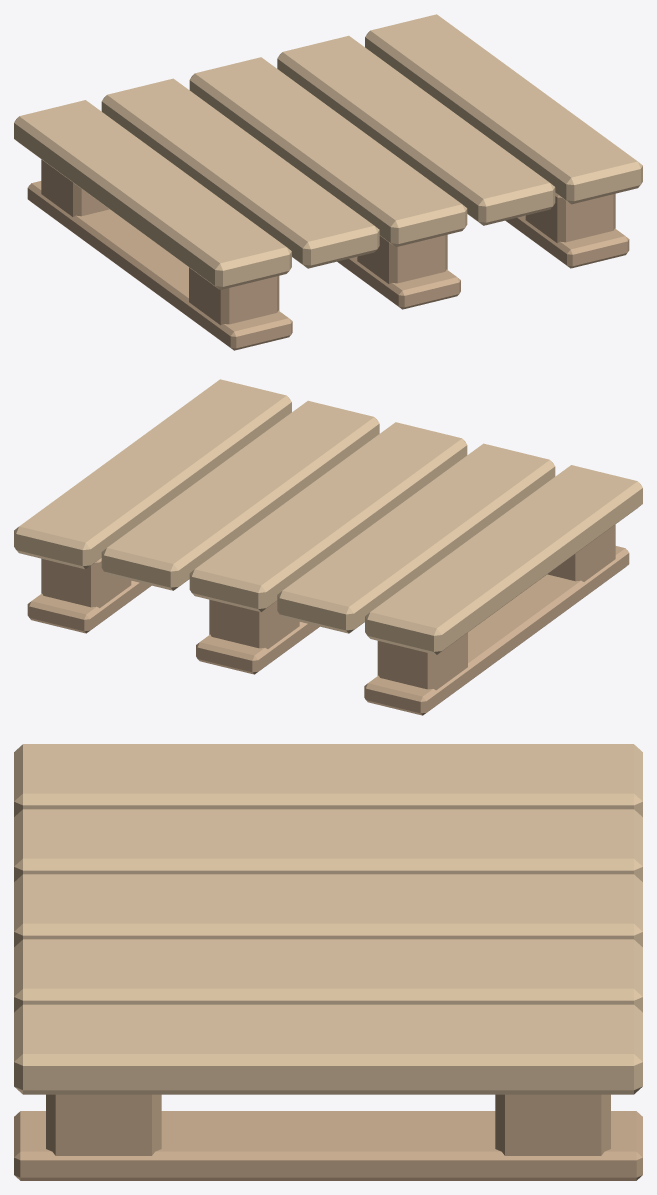
The model's file is cargo_pallet.glb.
3 renders of one model, top to bottom at view 1: azimuth 30°, elevation 25°; view 2: azimuth 150°, elevation 25°; view 3: azimuth 270°, elevation 25°, orthographic. The views are drawn at different scales.
Parts seen in each view (by area): view 1: cargo_pallet; view 2: cargo_pallet; view 3: cargo_pallet.
Boxes of the visible parts, left/top/right/bottom form: cargo_pallet: left=14, top=14, right=642, bottom=350; cargo_pallet: left=14, top=379, right=642, bottom=715; cargo_pallet: left=14, top=744, right=642, bottom=1180.
Bounding box in the file's own units: 1.17 × 0.235 × 0.98.
